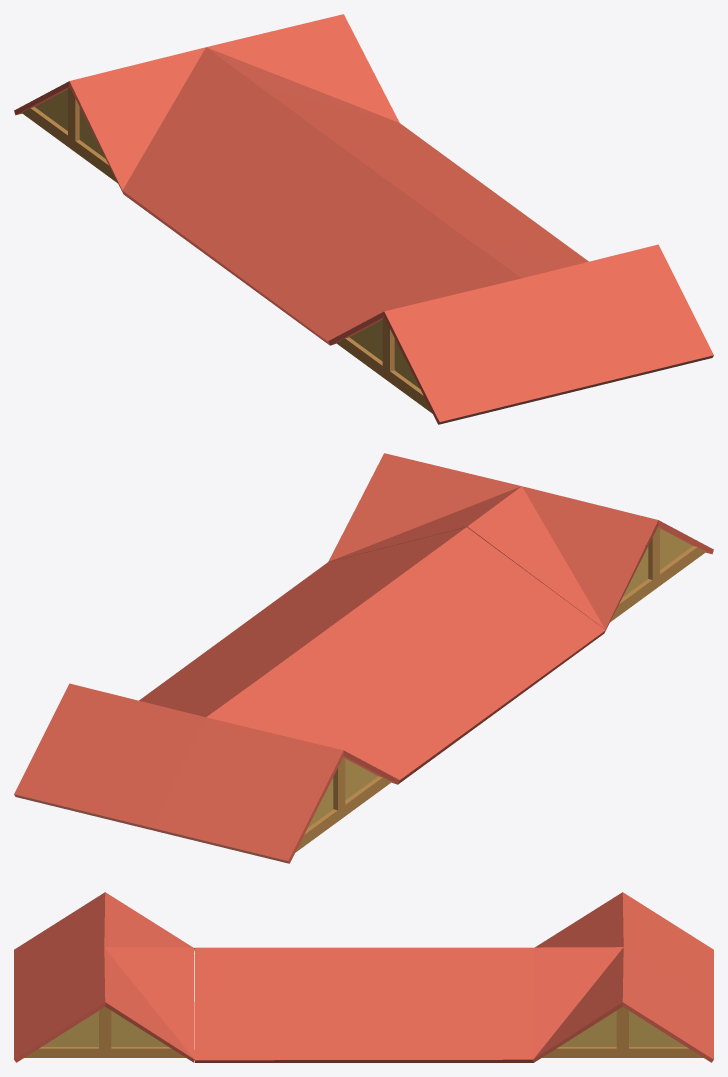
The model's file is Roof.fbx.
3 renders of one model, top to bottom at view 1: azimuth 30°, elevation 25°; view 2: azimuth 150°, elevation 25°; view 3: azimuth 270°, elevation 25°, orthographic. The views are drawn at different scales.
Parts seen in each view (by area): view 1: Roof_3, Roof_2, Roof_1; view 2: Roof_3, Roof_1, Roof_2; view 3: Roof_3, Roof_2, Roof_1.
Boxes of the visible parts, box(x1,y1,x2,y2) form: Roof_3: box(122, 87, 588, 345); Roof_2: box(328, 239, 713, 424); Roof_1: box(14, 14, 399, 193); Roof_3: box(139, 527, 605, 784); Roof_1: box(14, 678, 399, 863); Roof_2: box(328, 453, 713, 631); Roof_3: box(195, 947, 533, 1062); Roof_2: box(14, 892, 194, 1062); Roof_1: box(533, 892, 713, 1062).
Size of the model in its own units: 1277 by 324 by 3387.
